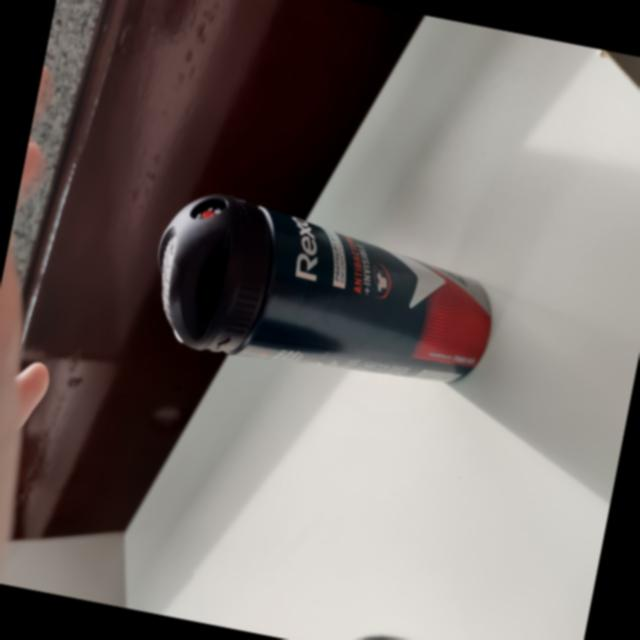Desodorante Azul: (139, 178, 491, 382)
